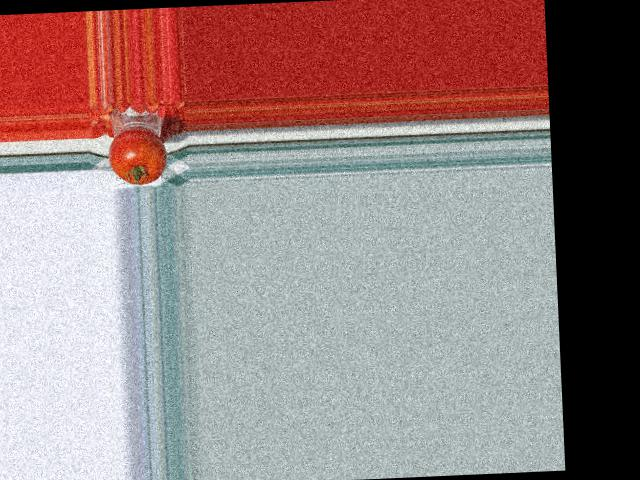tomato: (106, 127, 168, 186)
